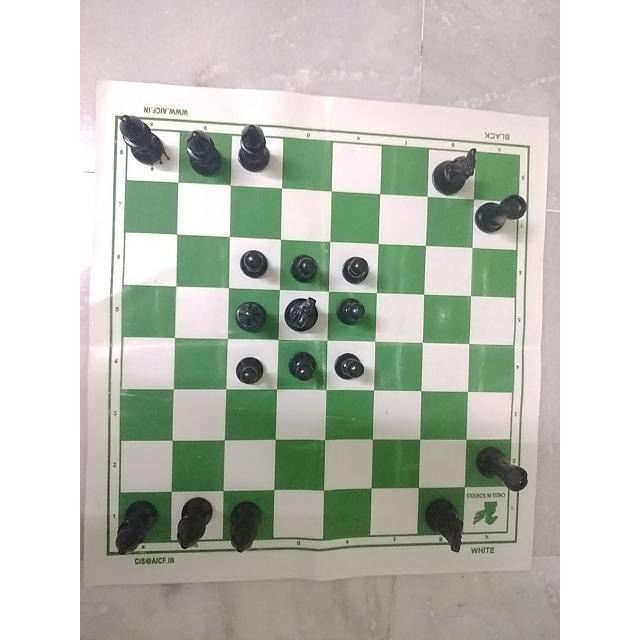black-bishop: (110, 497, 162, 569), (169, 491, 215, 569), (235, 112, 281, 186), (118, 106, 170, 170), (179, 120, 229, 186), (226, 488, 263, 562), (230, 294, 274, 341)
black-knight: (410, 493, 472, 559), (427, 139, 485, 197), (282, 293, 322, 333)
black-pawn: (228, 350, 272, 402), (238, 239, 280, 286), (335, 251, 377, 295), (286, 345, 325, 391), (289, 245, 324, 289), (334, 347, 369, 386), (336, 295, 375, 325)
black-rook: (465, 441, 531, 493), (472, 189, 532, 240)
